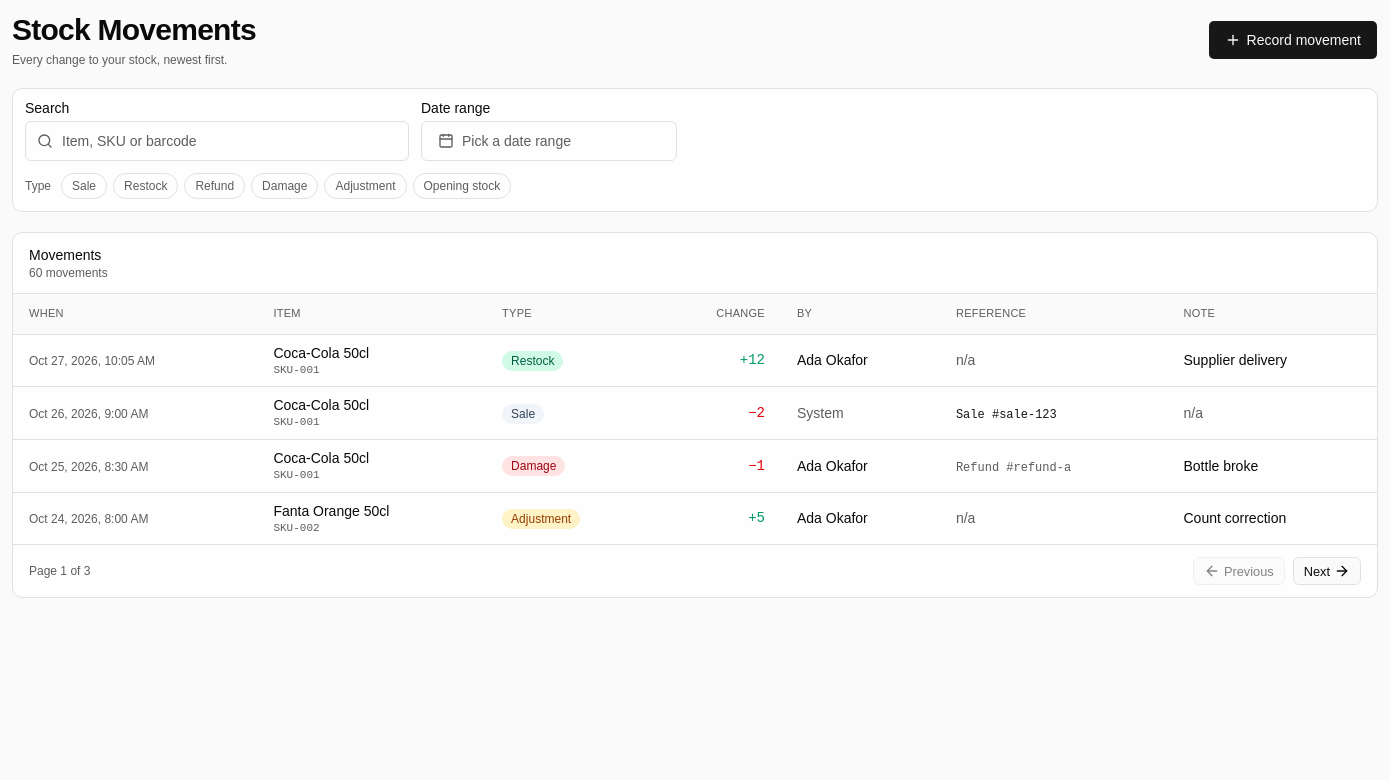
Test: StockMovementPage › paginates and removes the page param when returning to the first page
The width and height of the screenshot is (1390, 780).
Expected: the text "Page 1 of 3" is shown, x1=29 y1=563 x2=90 y2=579
What coordinates should you click on to do the following:
click the button "Next"
I would click on:
 (1327, 571)
Its box is x1=1293 y1=557 x2=1361 y2=585.
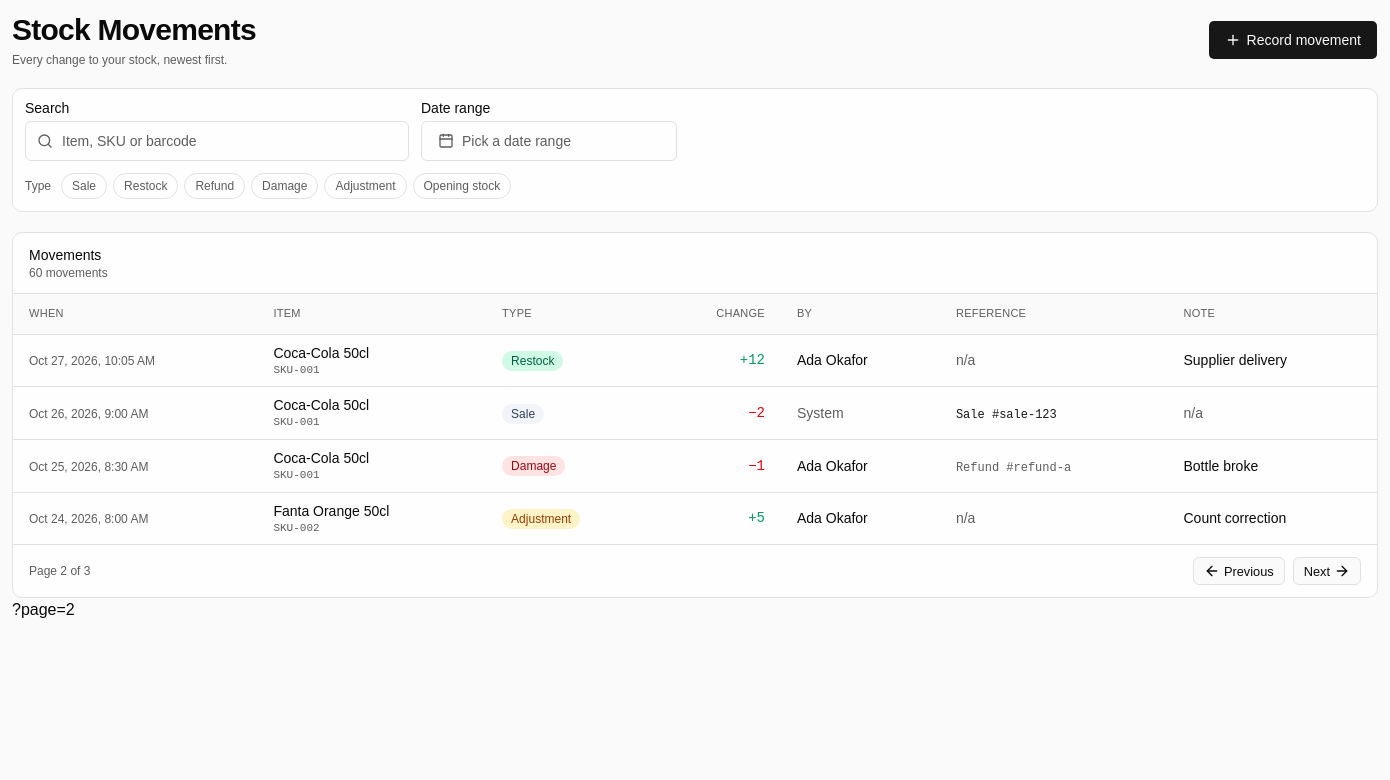
Expected: the text with test id "location-search" reads "?page=2", x1=12 y1=601 x2=75 y2=618
Expected: the text "Page 2 of 3" is shown, x1=29 y1=563 x2=90 y2=579
What coordinates should you click on to do the following:
click the button "Previous"
I would click on:
 (1239, 571)
Its box is x1=1193 y1=557 x2=1285 y2=585.
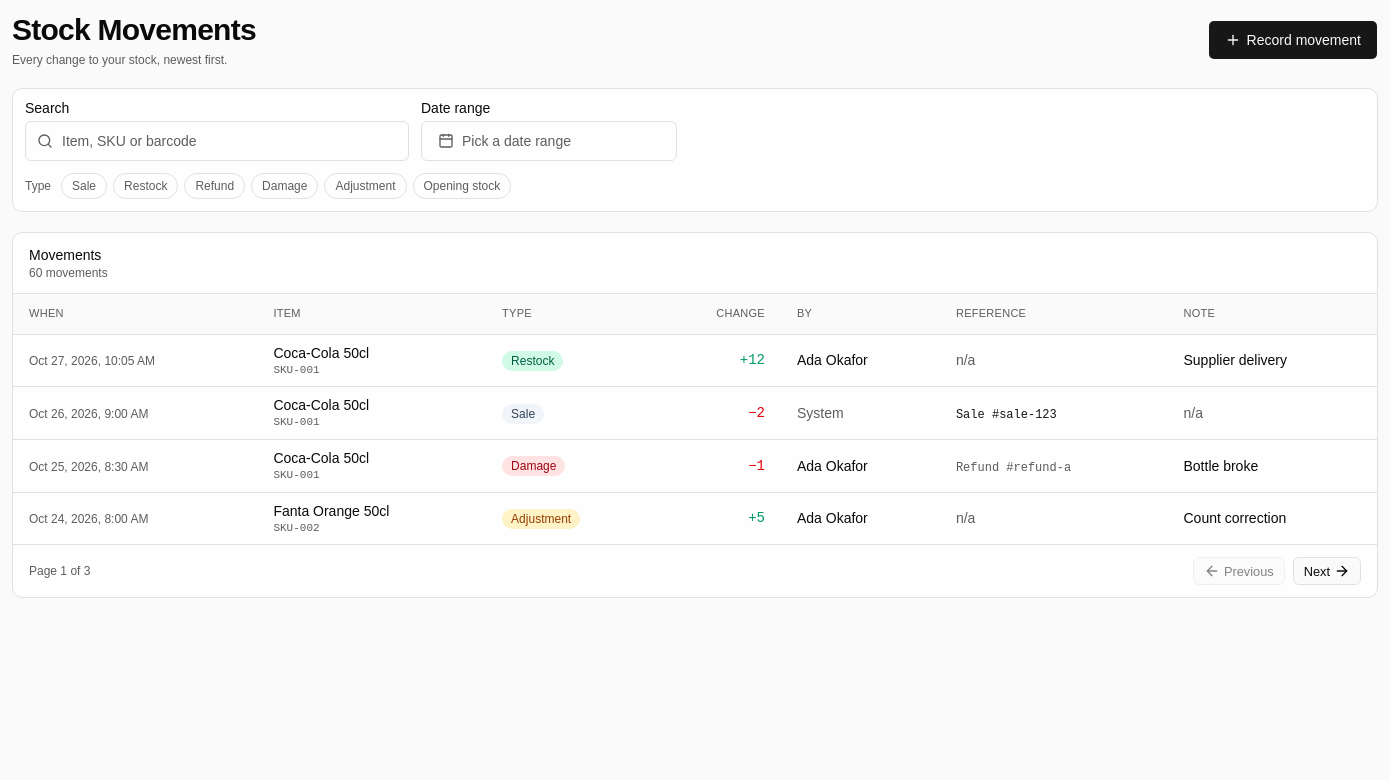
Expected: the text "Page 1 of 3" is shown, x1=29 y1=563 x2=90 y2=579
